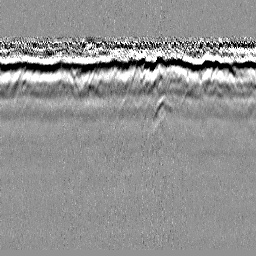cavity: (118, 93, 140, 119)
